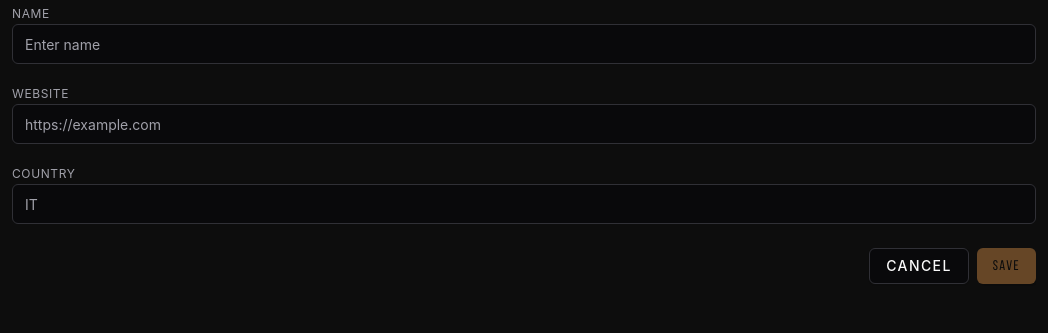
Test: QuickAddEntityForm › disables save for duplicate manufacturer names (case-insensitive)
Type "acme" into the field labelled "Name".
click(524, 44); type("acme")  # box [12,24,1036,64]
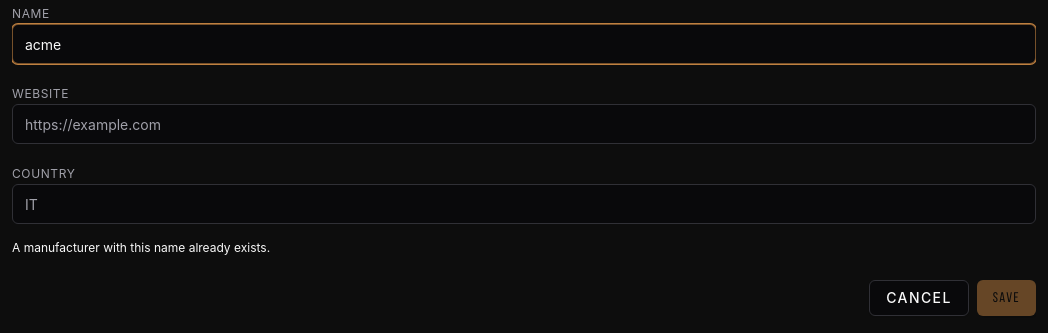
Expected: the button "Save" is disabled, [977,280,1036,316]
Expected: the text "A manufacturer with this name already exists." is shown, [12,240,270,255]
